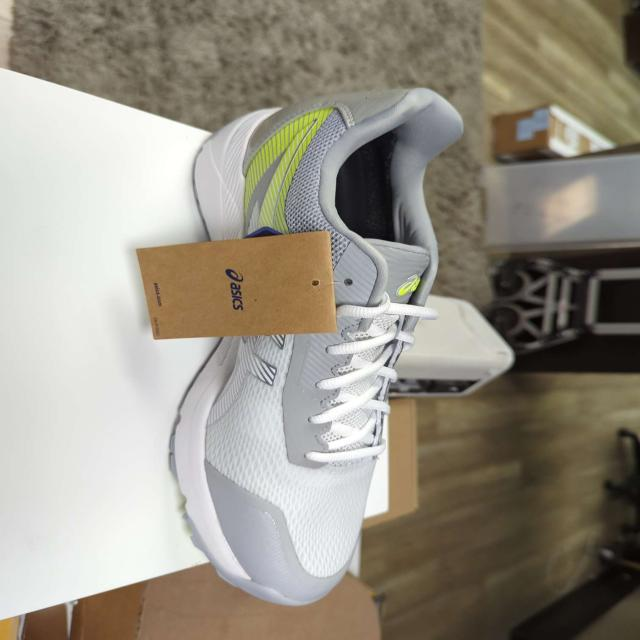shoe: (166, 85, 466, 606)
